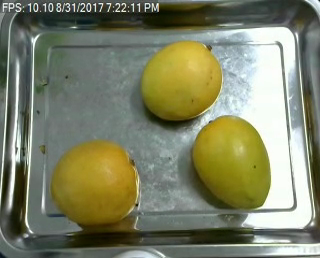Mango: (49, 139, 139, 225), (191, 115, 272, 210), (141, 42, 222, 119)
